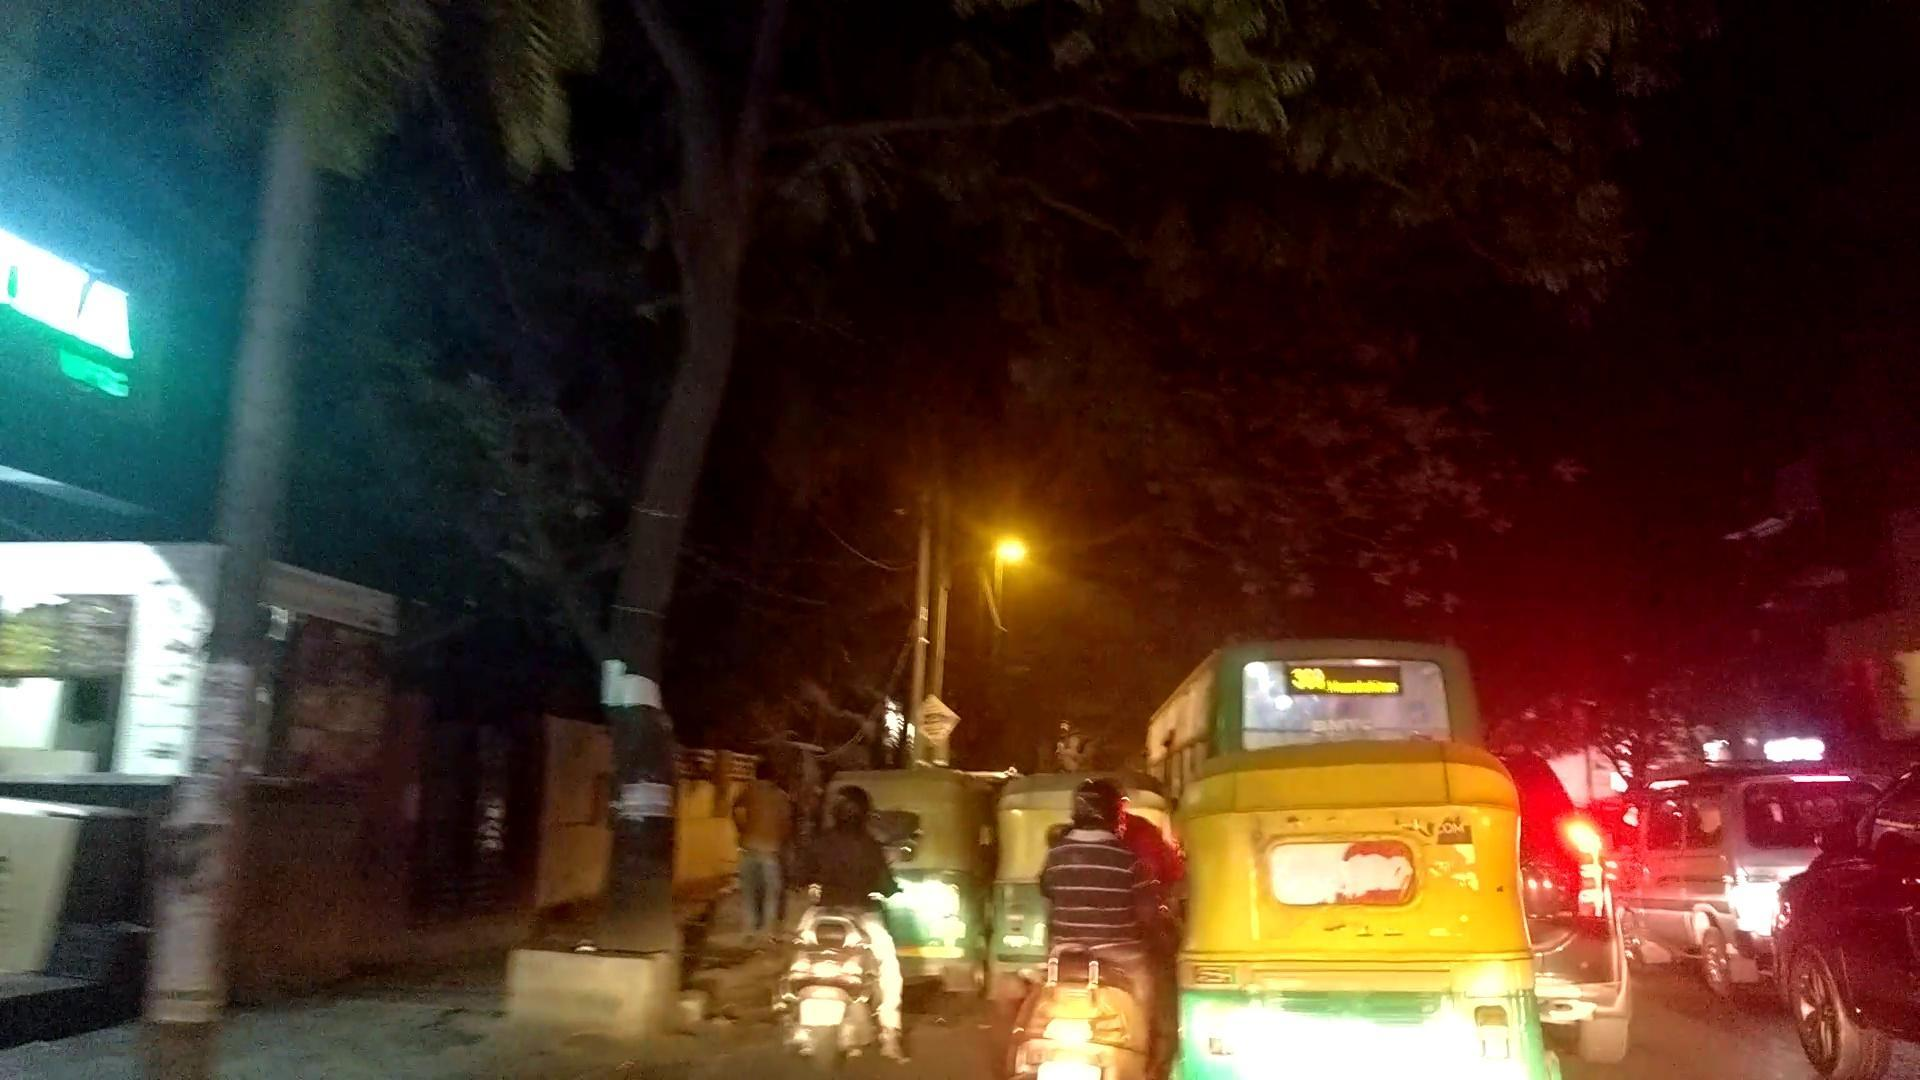on: (0, 32, 1920, 1080)
